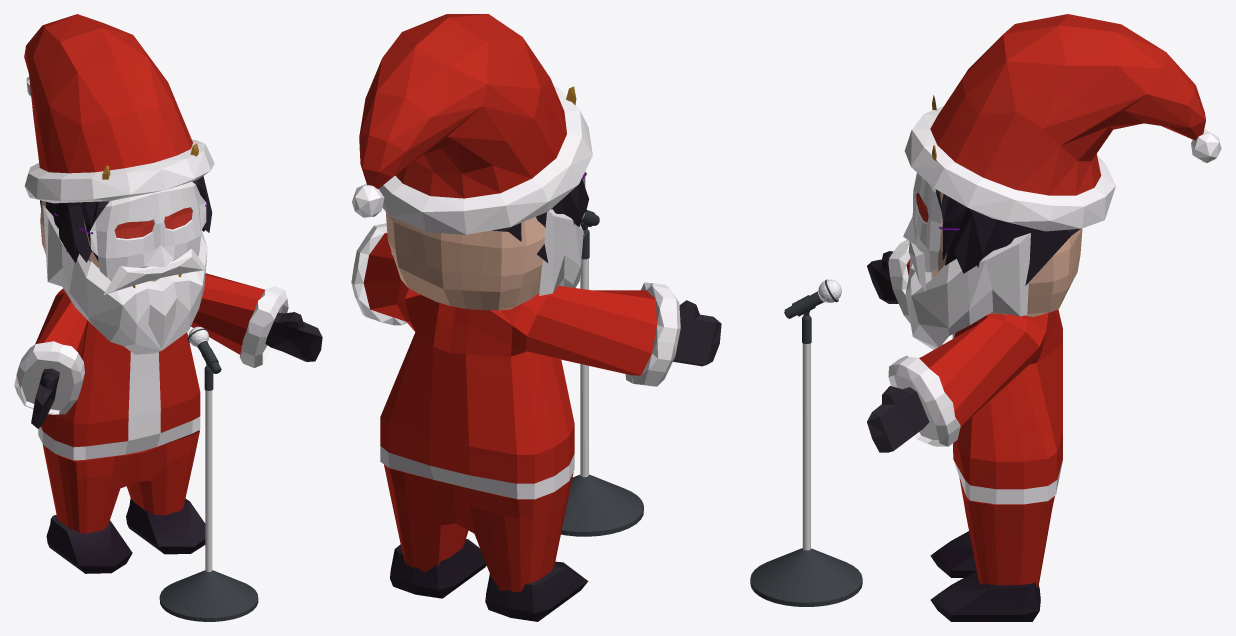
File: santa_a2.glb
3 renders of one model, left to right at view 1: azimuth 30°, elevation 25°; view 2: azimuth 150°, elevation 25°; view 3: azimuth 270°, elevation 25°, orthographic. The views are drawn at different scales.
Visible parts, largest first — view 1: huku-a, boushi-a, hige-a, zubon-a, kao-a-men, stand, kutu-r-a, kutu-l-a, kami-a, hanahige-a, maiku; view 2: huku-a, boushi-a, zubon-a, kao-a, stand, kutu-r-a, kutu-l-a, hige-a, kami-a; view 3: boushi-a, huku-a, hige-a, stand, zubon-a, kami-a, kutu-l-a, kao-a, kao-a-men, kutu-r-a, maiku.
Boxes of the visible parts, x1,y1,x2,y2 form: huku-a: (14,273,322,460); boushi-a: (24,14,214,203); hige-a: (43,205,207,354); zubon-a: (42,430,199,533); kao-a-men: (54,143,207,287); stand: (159,365,258,621); kutu-r-a: (46,514,132,573); kutu-l-a: (126,498,205,554); kami-a: (40,176,212,262); hanahige-a: (104,248,206,294); maiku: (188,326,221,373); huku-a: (351,223,721,499); boushi-a: (352,14,592,234); zubon-a: (384,464,573,592); kao-a: (385,212,545,310); stand: (561,229,643,536); kutu-r-a: (485,561,588,621); kutu-l-a: (390,539,486,598); hige-a: (391,209,583,295); kami-a: (492,178,588,262); boushi-a: (904,14,1221,231); huku-a: (867,239,1062,504); hige-a: (905,233,1030,349); stand: (750,315,862,606); zubon-a: (959,477,1054,587); kami-a: (941,194,1080,285); kutu-l-a: (930,571,1040,621); kao-a: (931,192,1082,316); kao-a-men: (903,95,959,272); kutu-r-a: (930,531,976,577); maiku: (784,279,841,318).
Bounding box in the file's own units: 5.44 × 9.12 × 6.9.
Materials: 18 (17 with a texture image).
